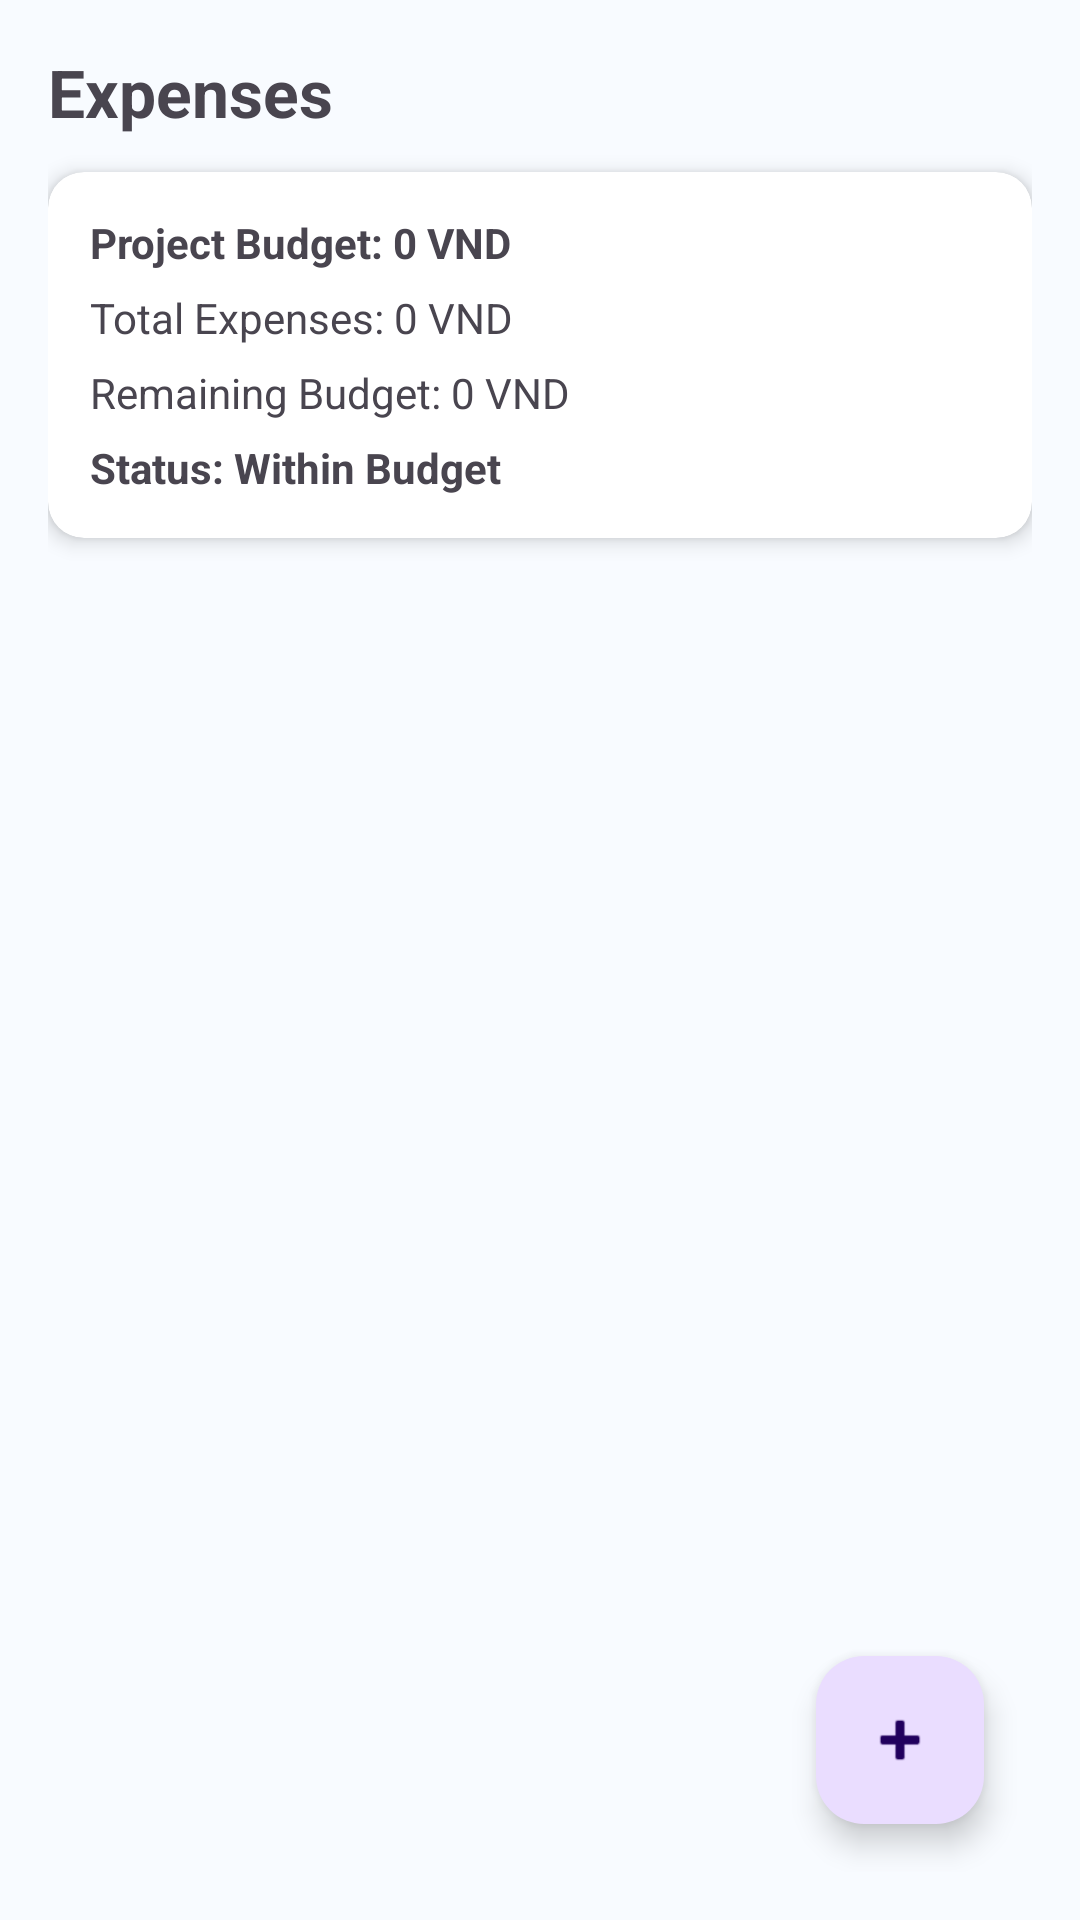

Icon bounding boxes for this 1080px x 1920px phone screenshot, format (x1, y1, x2, y2):
Add Expense: (816, 1656, 984, 1824)
